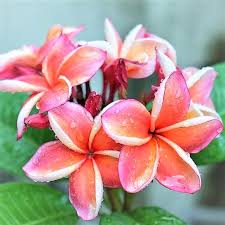frangipani: (105, 71, 224, 201)
